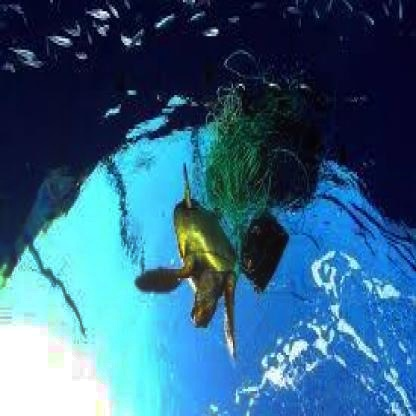net: (209, 98, 266, 238)
